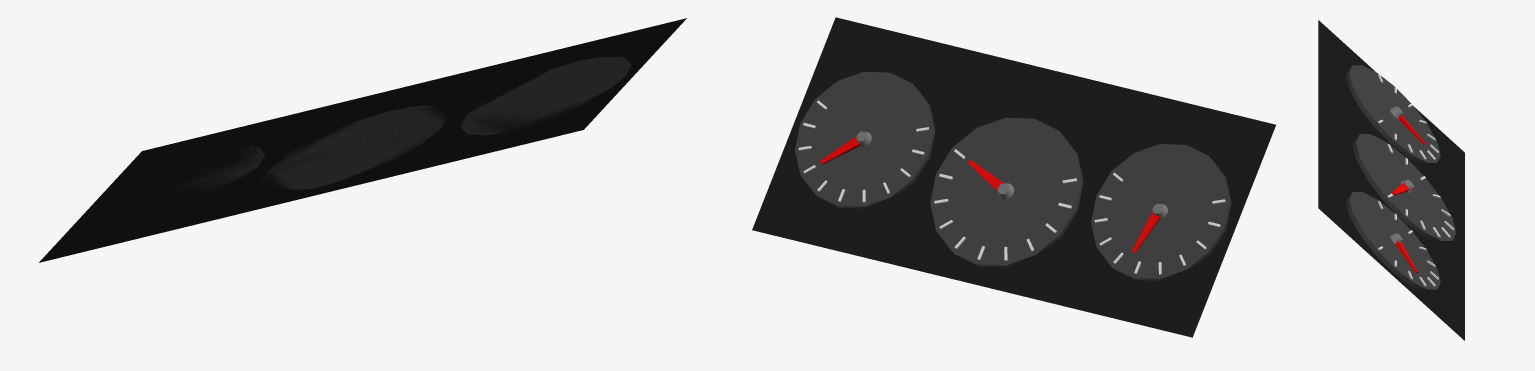
The model's file is Leg_YiBiaoPan2_1X3_02.FBX.
The picture shows the model from 3 angles, left to right: view 1: azimuth 30°, elevation 25°; view 2: azimuth 150°, elevation 25°; view 3: azimuth 270°, elevation 25°; orthographic projection. The views are drawn at different scales.
Parts seen in each view (by area): view 1: Box001; view 2: Box001; view 3: Box001.
Boxes of the visible parts, box(x1,y1,x2,y2) form: Box001: box(39, 18, 686, 262); Box001: box(752, 17, 1275, 337); Box001: box(1318, 20, 1464, 340).
Size of the model in its own units: 3 by 1 by 1.28.
